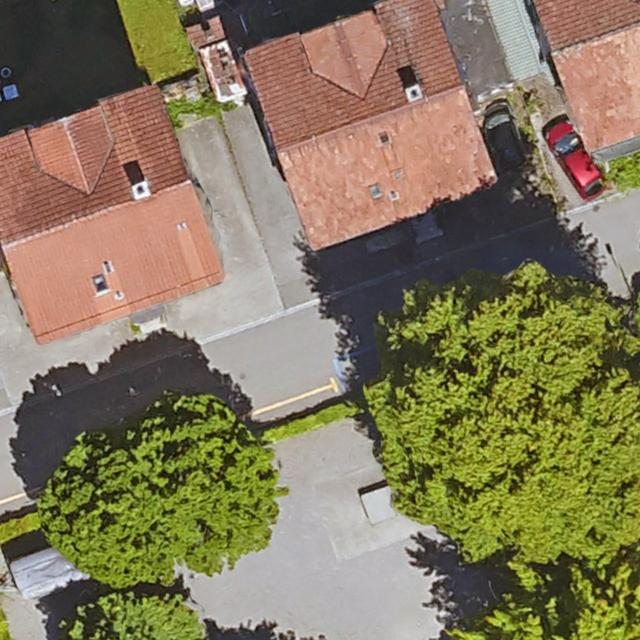tree: (372, 264, 640, 567), (119, 408, 279, 571), (32, 432, 178, 589), (439, 555, 640, 640), (64, 593, 204, 640)
